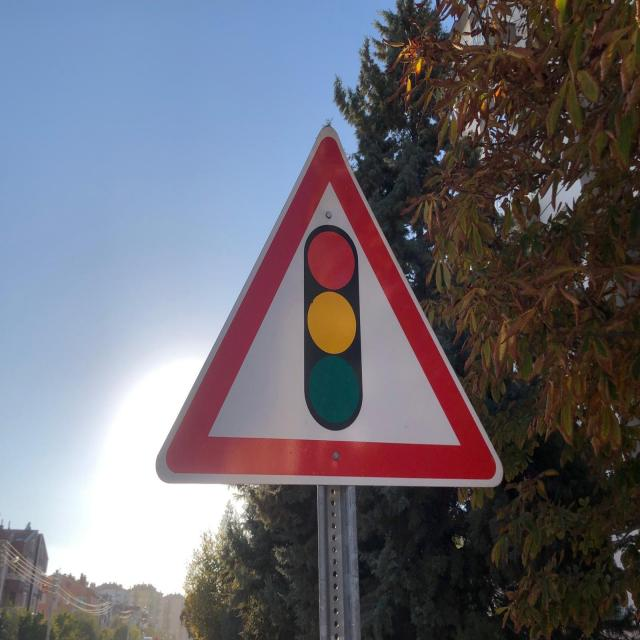light_traffic: (152, 115, 508, 493)
